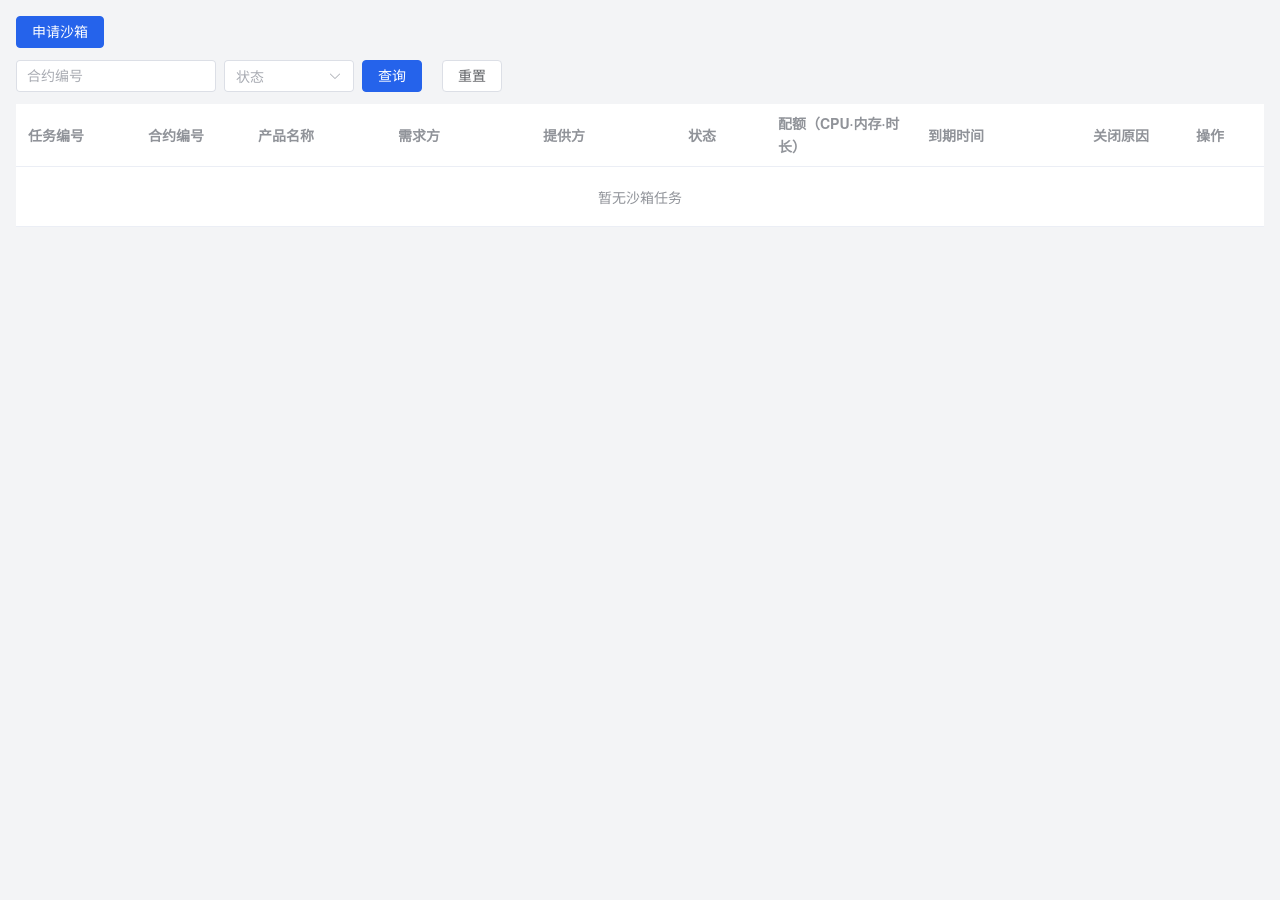
沙箱任务列表（T7） › 申请被拒：文案原样（1009C0011 同形组不叠加解释）
This screenshot has width=1280, height=900.
Click the button "申请沙箱": [60, 32] box [16,16,104,48]
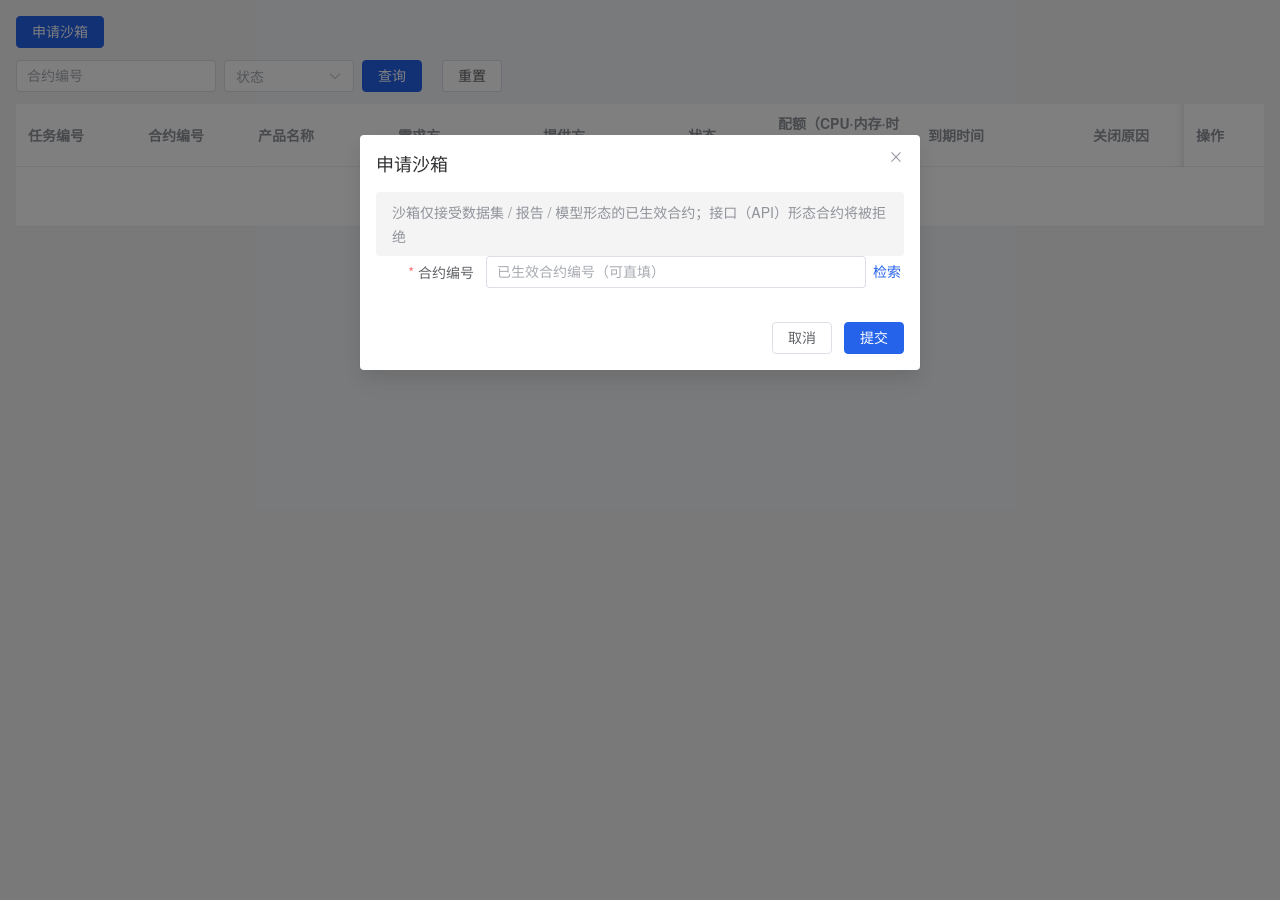
In the field labelled "合约编号": [676, 272] box [497,257,855,287], type "CO000026"
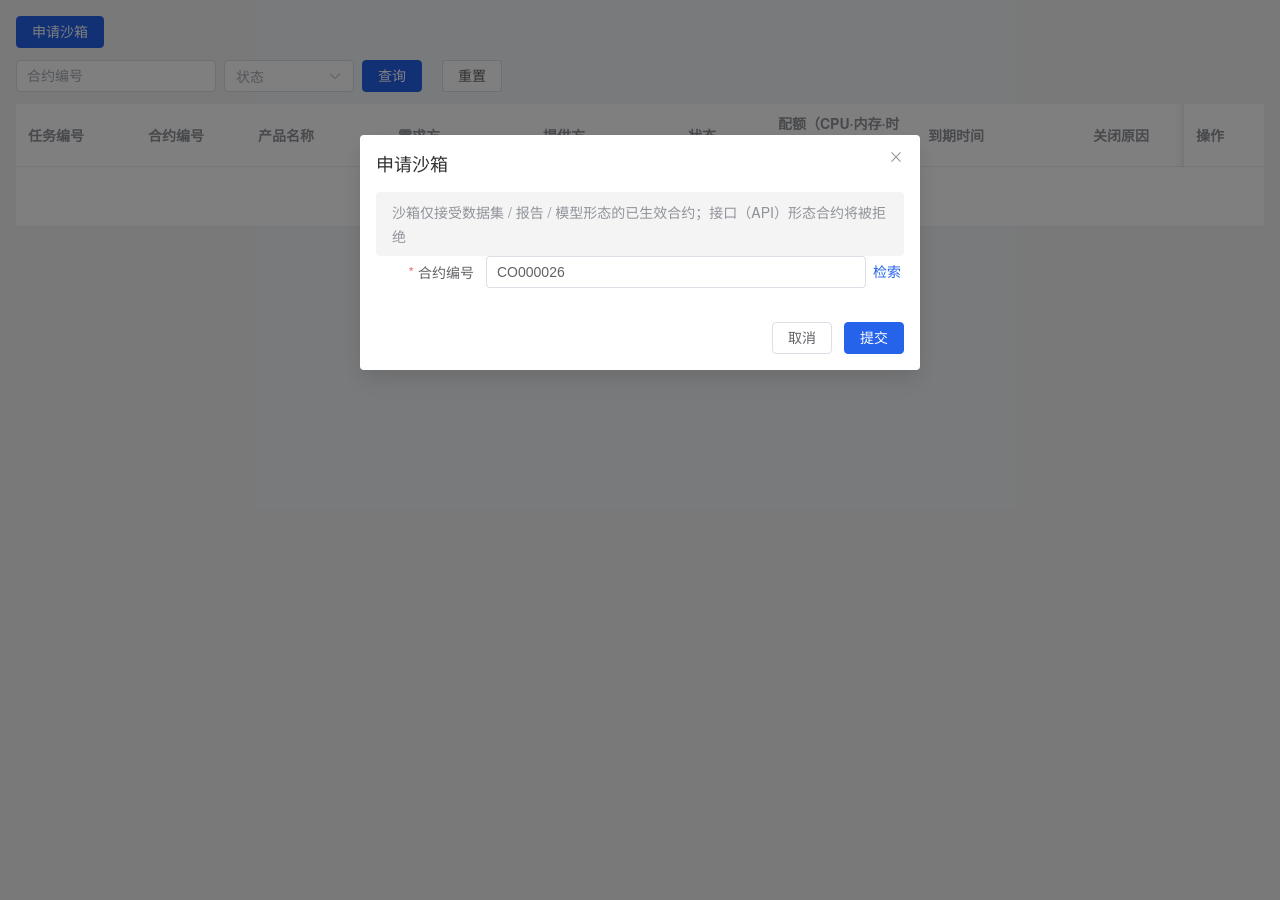
Click the button "提交": [874, 338] box [844,322,904,354]
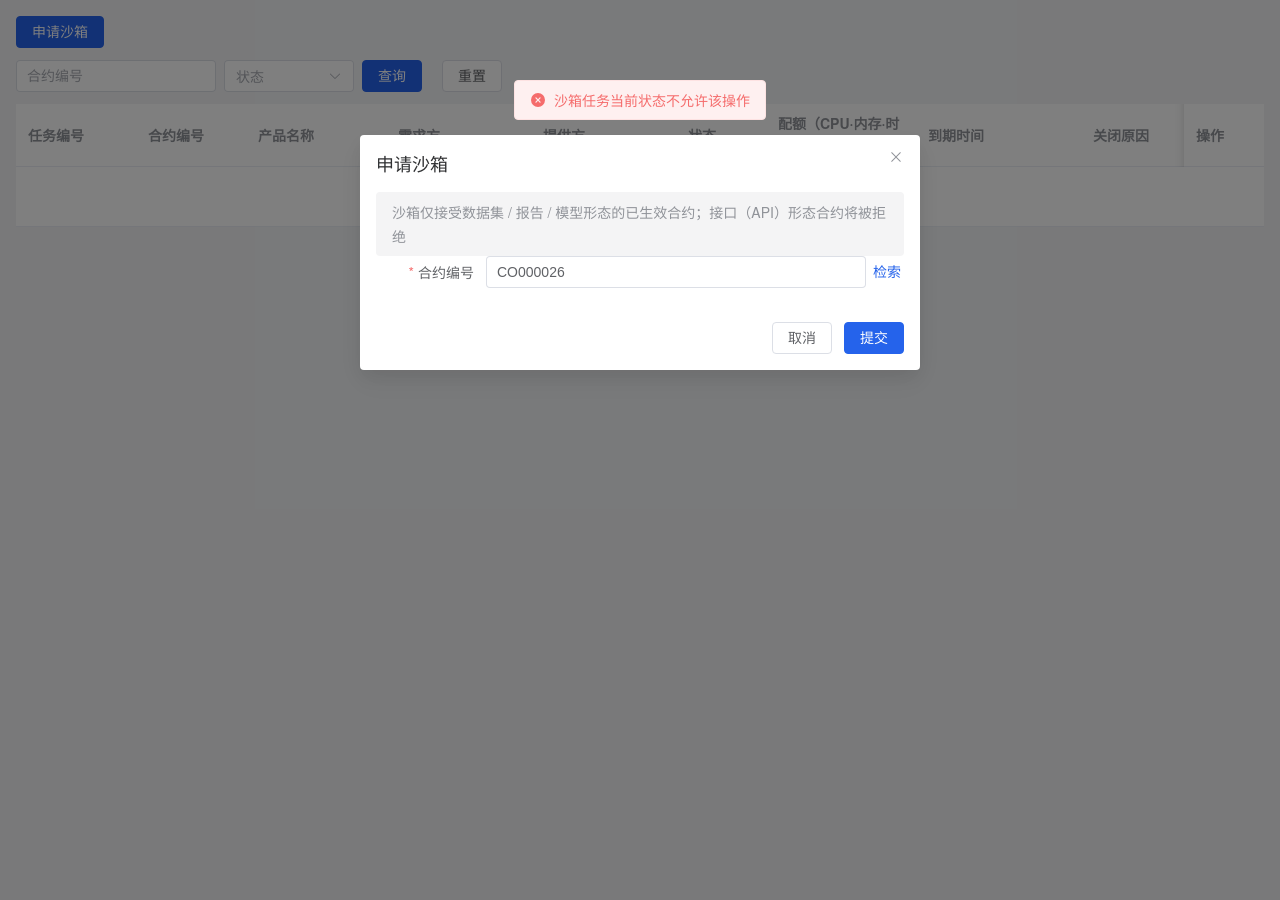
Now the text "沙箱任务当前状态不允许该操作" is shown, box [554,93,750,107]
